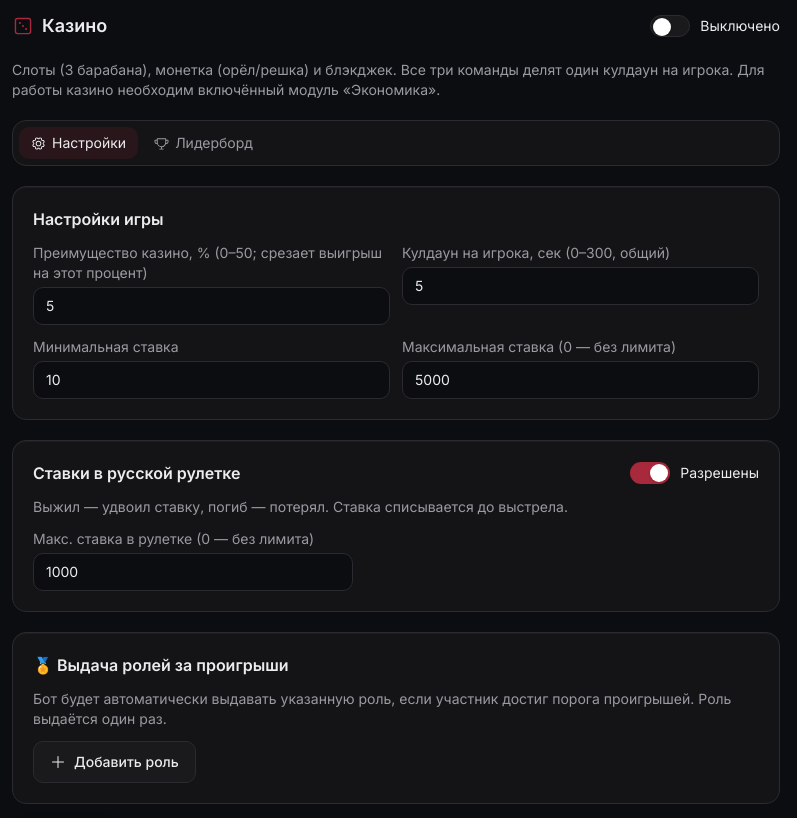
CasinoPage › strips non-digit characters from the role id field
Click the button "Добавить роль" at (114, 762), box [33,741,196,783]
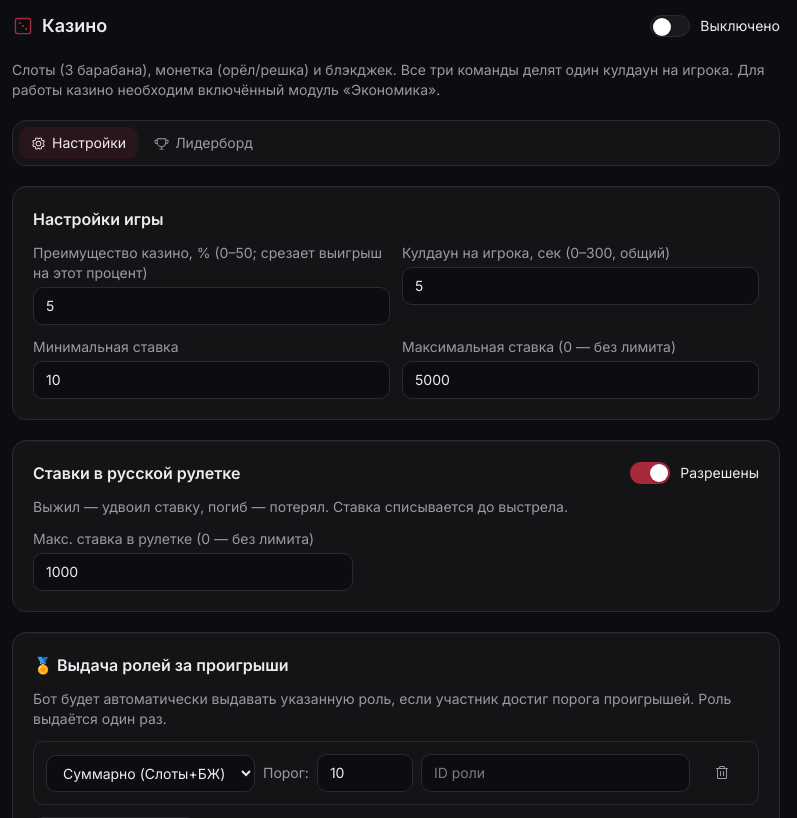
Type "12a3b" into the field with placeholder "ID роли" at (555, 773), box [421,754,690,792]
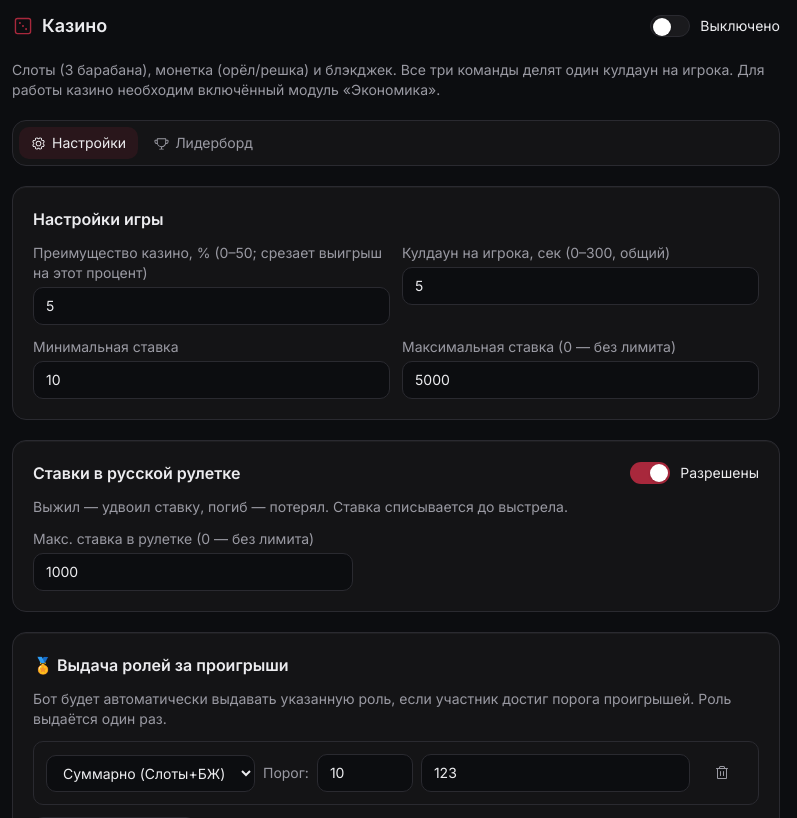
Check: the field with placeholder "ID роли" holds "123", box [421,754,690,792]
